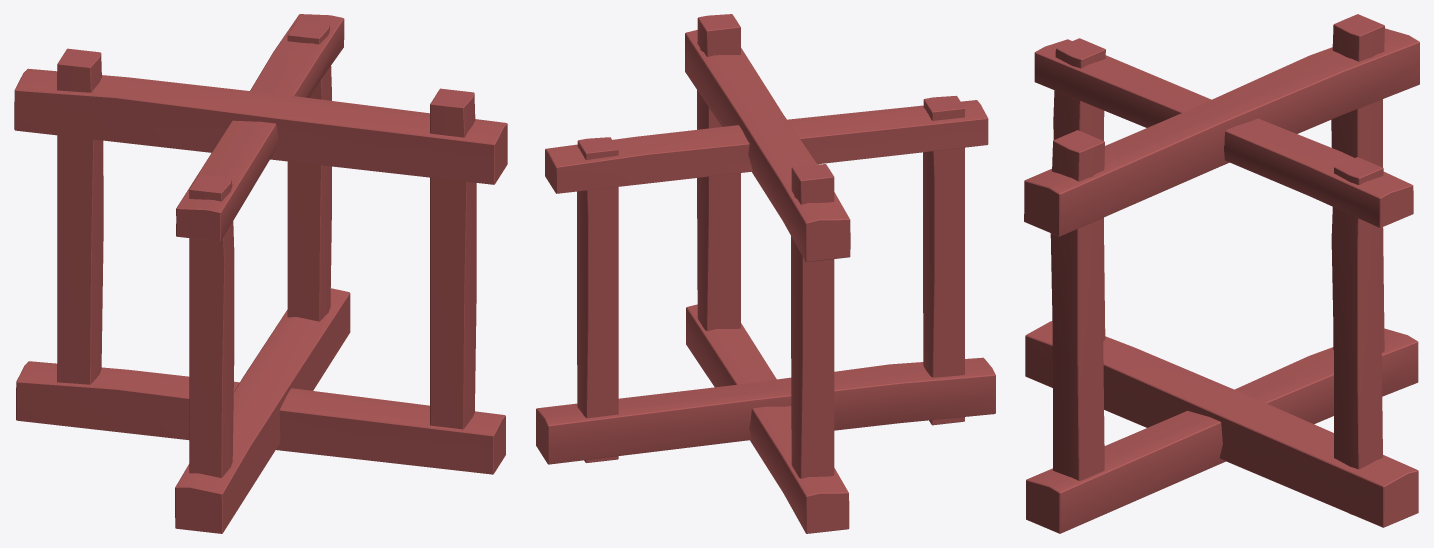
Rendered from Beam_Structure_04_Lod0.fbx.
The picture shows the model from 3 angles, left to right: view 1: azimuth 30°, elevation 25°; view 2: azimuth 150°, elevation 25°; view 3: azimuth 270°, elevation 25°; orthographic projection. The views are drawn at different scales.
Visible parts, largest first — view 1: Beam_Structure_04_Lod0; view 2: Beam_Structure_04_Lod0; view 3: Beam_Structure_04_Lod0.
Boxes of the visible parts, bbox=[...] form: Beam_Structure_04_Lod0: bbox=[14, 14, 507, 533]; Beam_Structure_04_Lod0: bbox=[536, 14, 995, 533]; Beam_Structure_04_Lod0: bbox=[1024, 14, 1419, 533].
Size of the model in its own units: 181 by 186 by 180.
